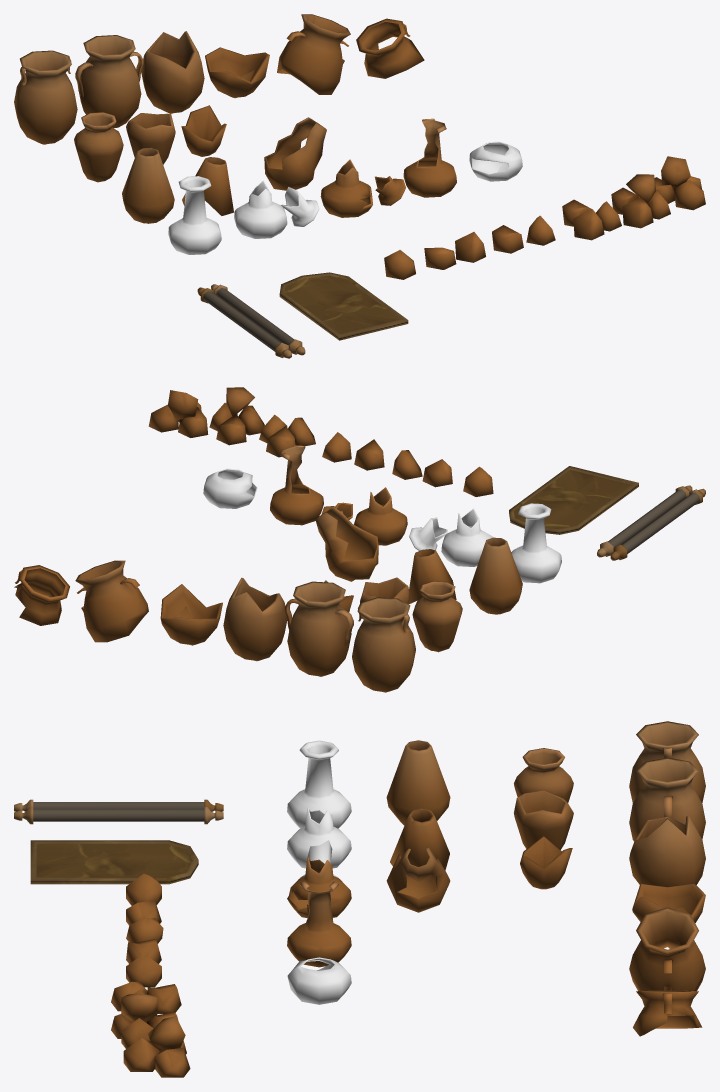
The model's file is vases pickups and stones.fbx.
The picture shows the model from 3 angles, top to bottom: view 1: azimuth 30°, elevation 25°; view 2: azimuth 150°, elevation 25°; view 3: azimuth 270°, elevation 25°; orthographic projection. The views are drawn at different scales.
Parts seen in each view (by area): view 1: Circle.037, Circle.022, Circle.023, Circle.024, Circle.026, Circle.030, Circle.028, Circle.013, Circle.033, Circle.027, Circle.012, Circle.019 (+15 smaller); view 2: Circle.023, Circle.022, Circle.037, Circle.026, Circle.024, Circle.030, Circle.028, Circle.019, Circle.036, Circle.013, Circle.012, Circle.025 (+14 smaller); view 3: Circle.037, Circle.026, Circle.024, Circle.036, Circle.023, Circle.028, Circle.034, Circle.012, Circle.022, Icosphere.015, Circle.030, Circle.020 (+15 smaller).
Part boxes in pixels (x1,y1,x2,y2): Circle.037: (279, 272, 408, 340); Circle.022: (14, 50, 77, 144); Circle.023: (75, 35, 143, 127); Circle.024: (141, 31, 204, 113); Circle.026: (277, 14, 350, 94); Circle.030: (264, 117, 326, 190); Circle.028: (122, 147, 174, 223); Circle.013: (234, 180, 319, 238); Circle.033: (320, 159, 405, 217); Circle.027: (356, 18, 424, 78); Circle.012: (168, 176, 221, 254); Circle.019: (74, 112, 123, 182); Circle.023: (284, 581, 353, 676); Circle.022: (352, 597, 415, 692); Circle.037: (509, 466, 638, 534); Circle.026: (75, 560, 148, 642); Circle.024: (223, 577, 287, 661); Circle.030: (315, 507, 378, 581); Circle.028: (469, 537, 522, 614); Circle.019: (412, 581, 462, 652); Circle.036: (597, 485, 705, 560); Circle.013: (409, 508, 493, 566); Circle.012: (511, 503, 561, 583); Circle.025: (160, 584, 222, 645); Circle.037: (30, 840, 198, 884); Circle.026: (629, 907, 705, 991); Circle.024: (629, 816, 705, 886); Circle.036: (14, 799, 223, 824); Circle.023: (629, 757, 705, 841); Circle.028: (386, 740, 450, 825); Circle.034: (287, 881, 351, 967); Circle.012: (287, 740, 351, 828); Circle.022: (629, 721, 705, 803); Icosphere.015: (123, 1016, 190, 1077); Circle.030: (386, 847, 450, 912); Circle.020: (514, 790, 573, 849).
Bounding box in the file's own units: 3098 × 587 × 3285.
